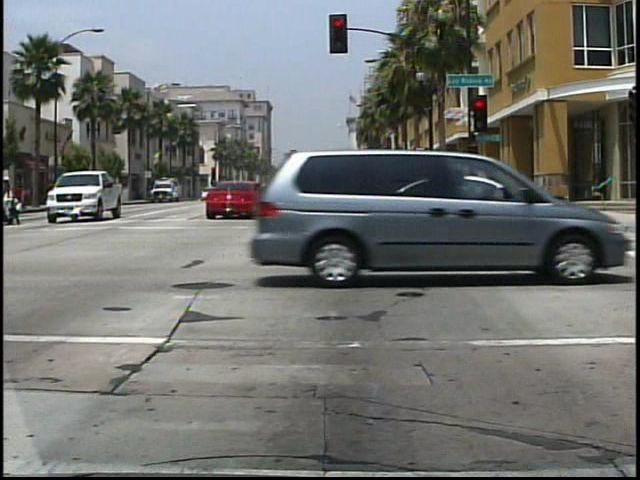person: (3, 170, 30, 229)
